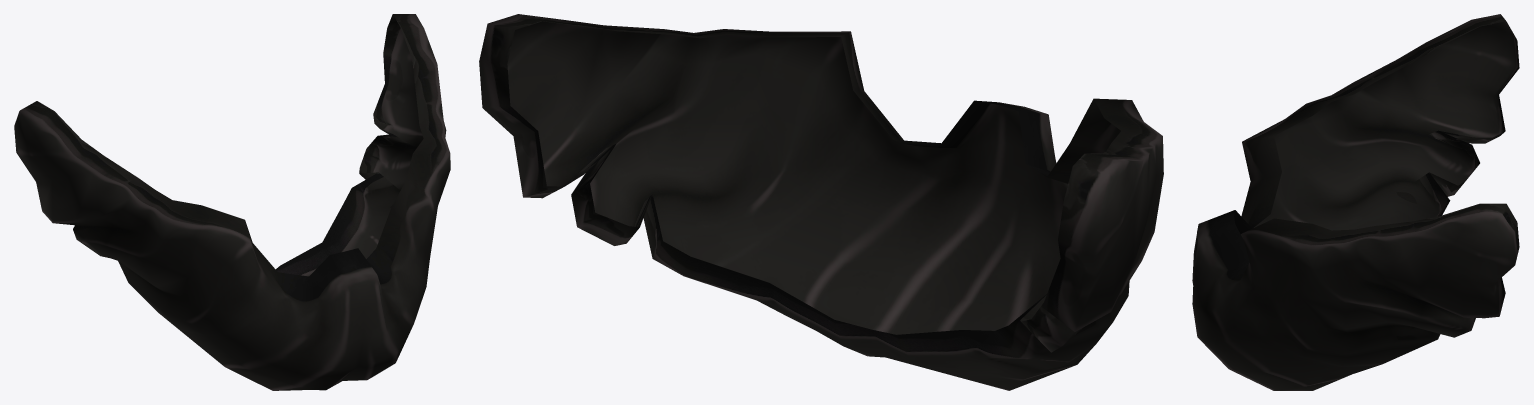
Rendered from beard9.fbx.
3 views of the same model, side by side, from view 1: azimuth 30°, elevation 25°; view 2: azimuth 150°, elevation 25°; view 3: azimuth 270°, elevation 25° (orthographic). The views are drawn at different scales.
Visible parts, largest first — view 1: beard9; view 2: beard9; view 3: beard9.
Boxes of the visible parts, <box> form: beard9: <box>14,14,450,390</box>; beard9: <box>479,14,1163,390</box>; beard9: <box>1192,14,1519,390</box>.
Size of the model in its own units: 12.58 by 7.38 by 8.56.
